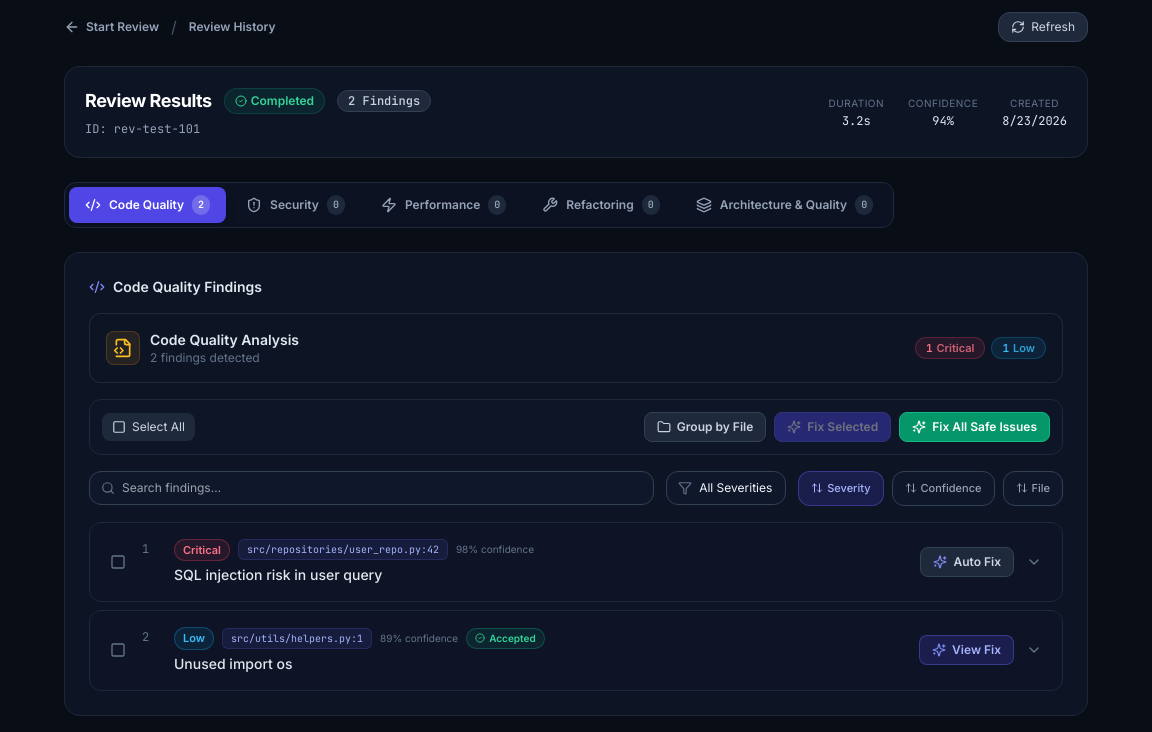
Test: ReviewResultsPage Fix Suggestion End-to-End Interactions › displays inline error when fix generation fails without breaking finding list
Click the button "Auto Fix". click: coordinates (967, 562)
box: [920,547,1014,577]
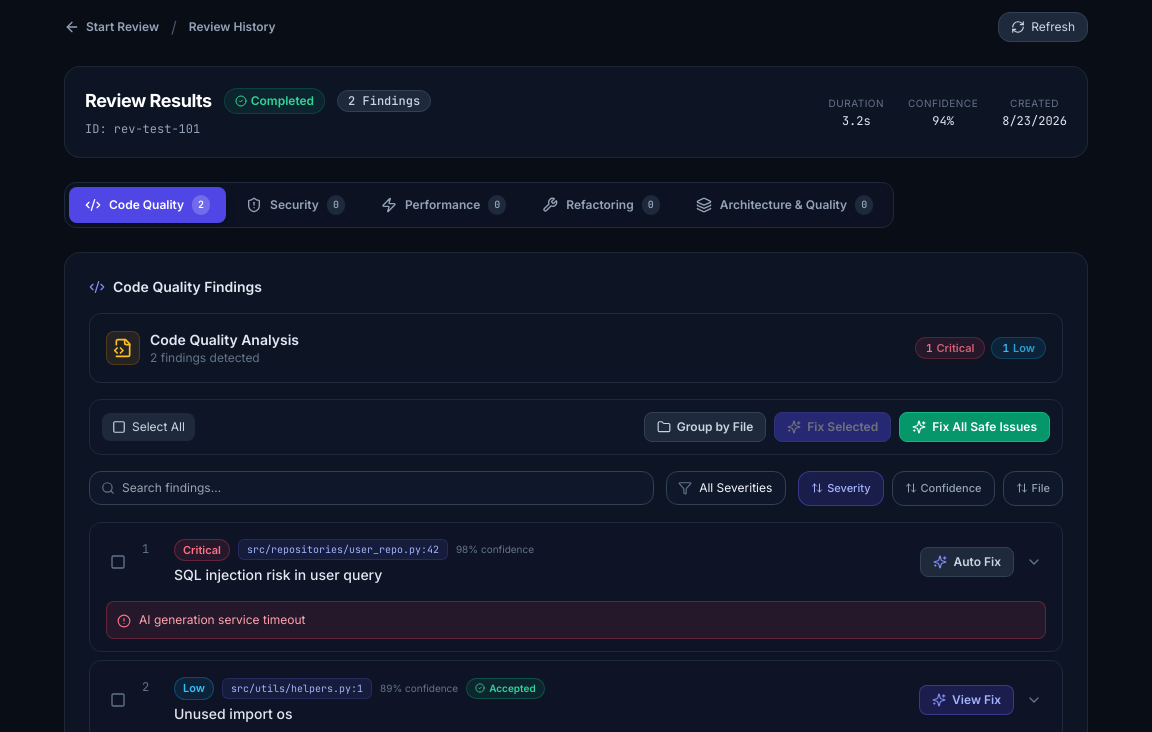
Expected: the text "SQL injection risk in user query" is shown, [174,566,382,583]
Result: the text "AI generation service timeout" is shown at [139,612,306,628]
